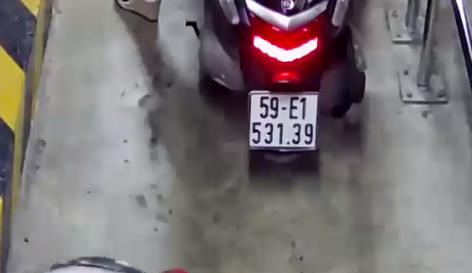lisence: (248, 90, 318, 148)
